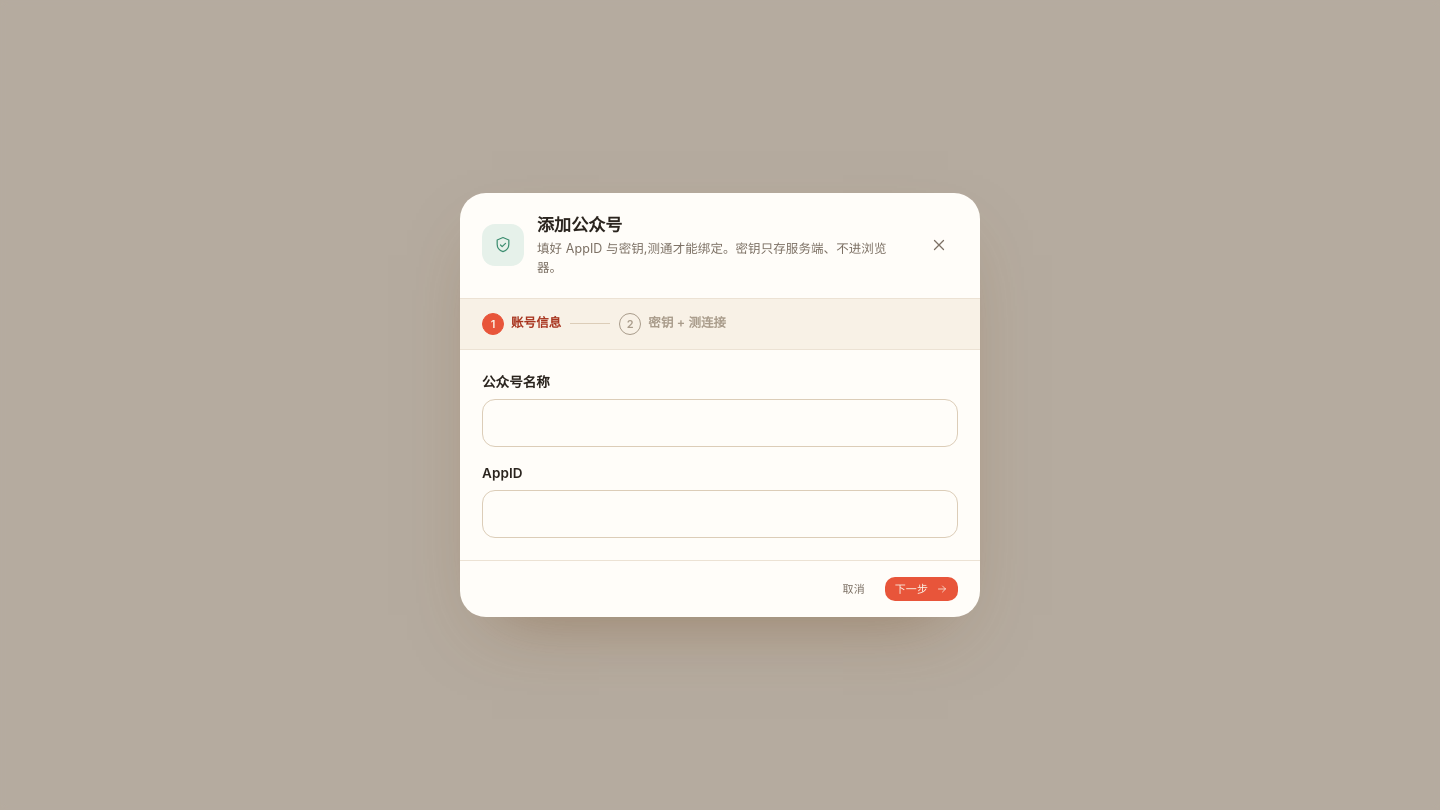
Test: WeChatBindWizard › 闸门:测连接成功后改 AppSecret 重置 tested,确认绑定按钮消失
Step 1. Type "号A" into the field named "名称" → (720, 423), box [497,400,943,446]
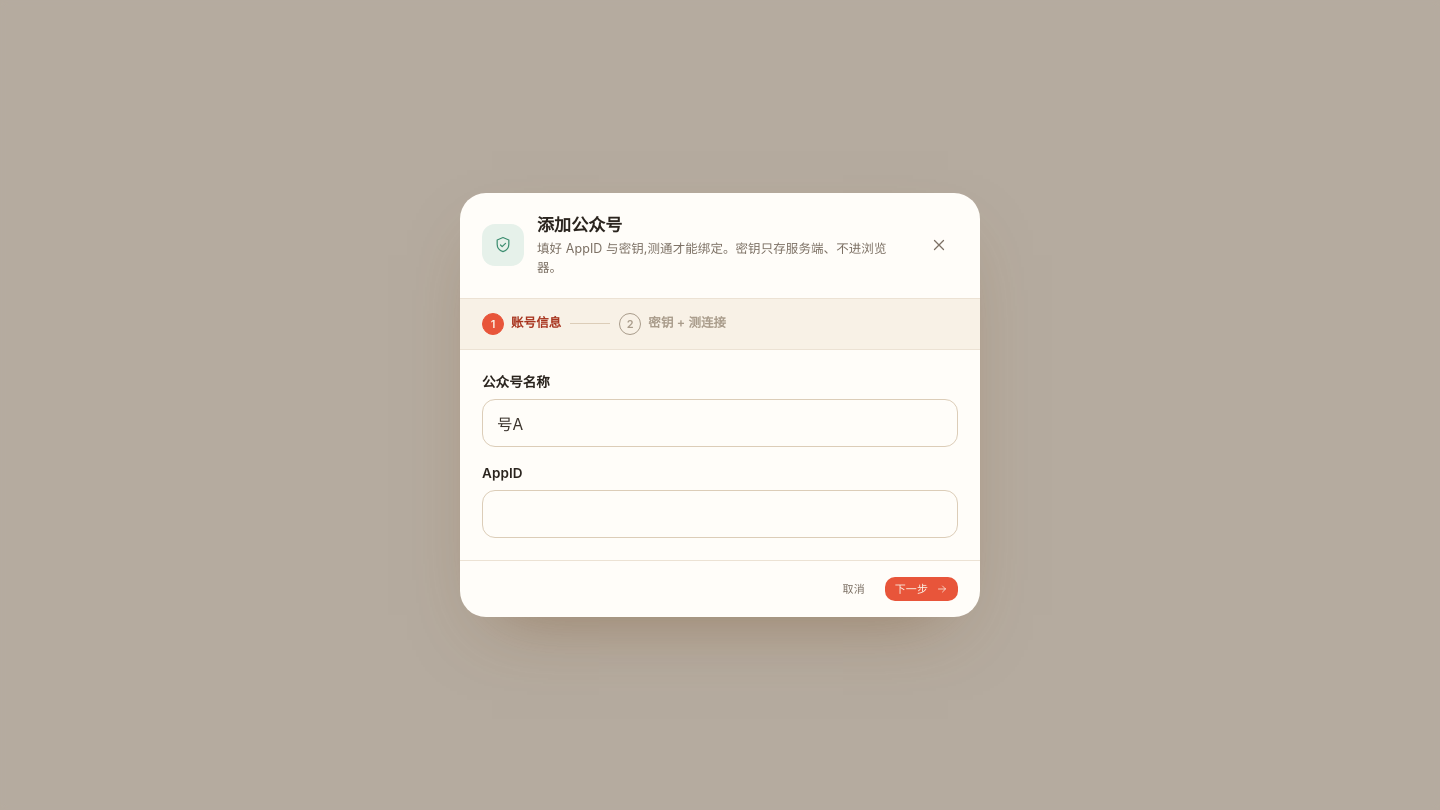
Step 2. Type "wxAppId" into the field named "AppID" → (720, 514), box [497,491,943,537]
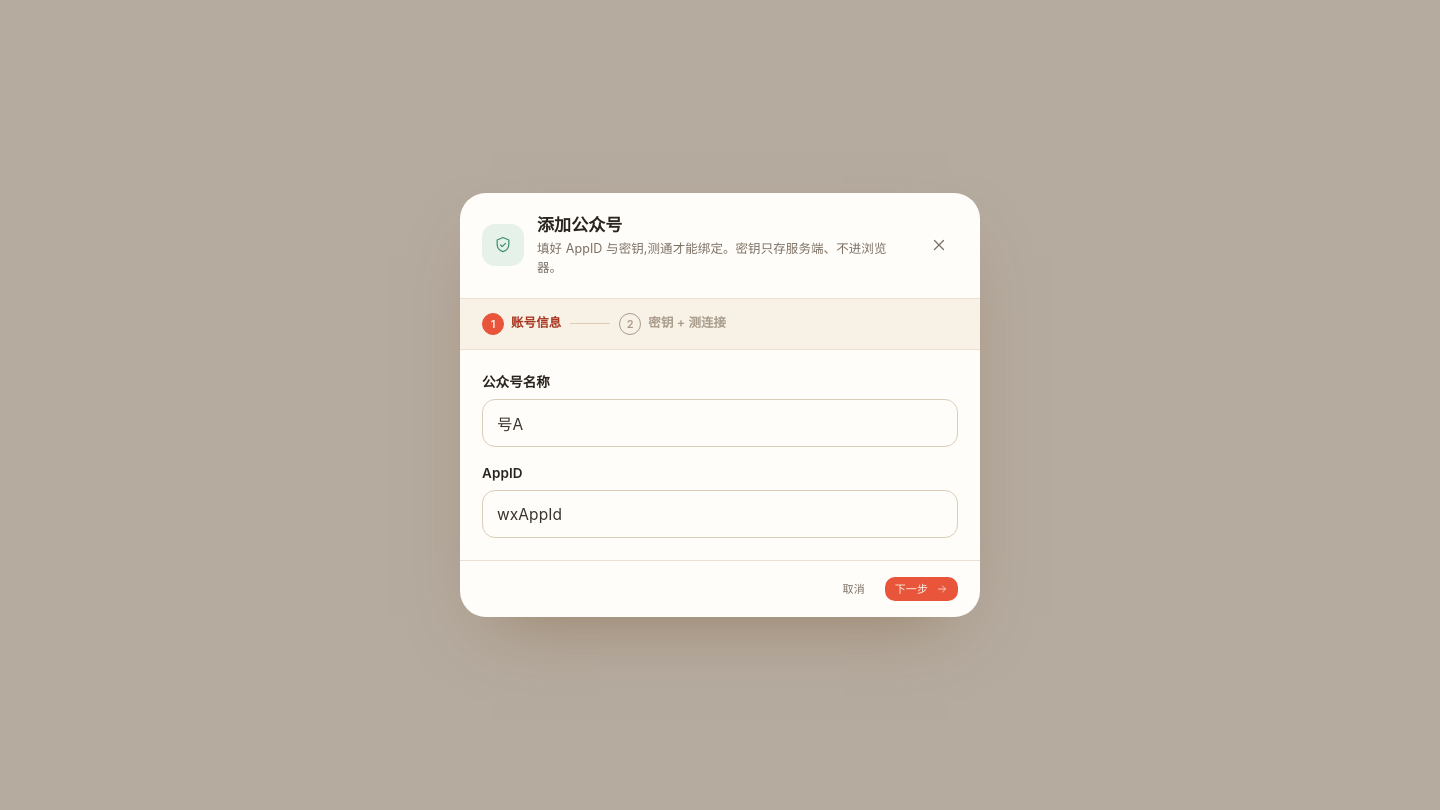
Step 3. Click the button "下一步" → (921, 589), box [885,577,958,601]
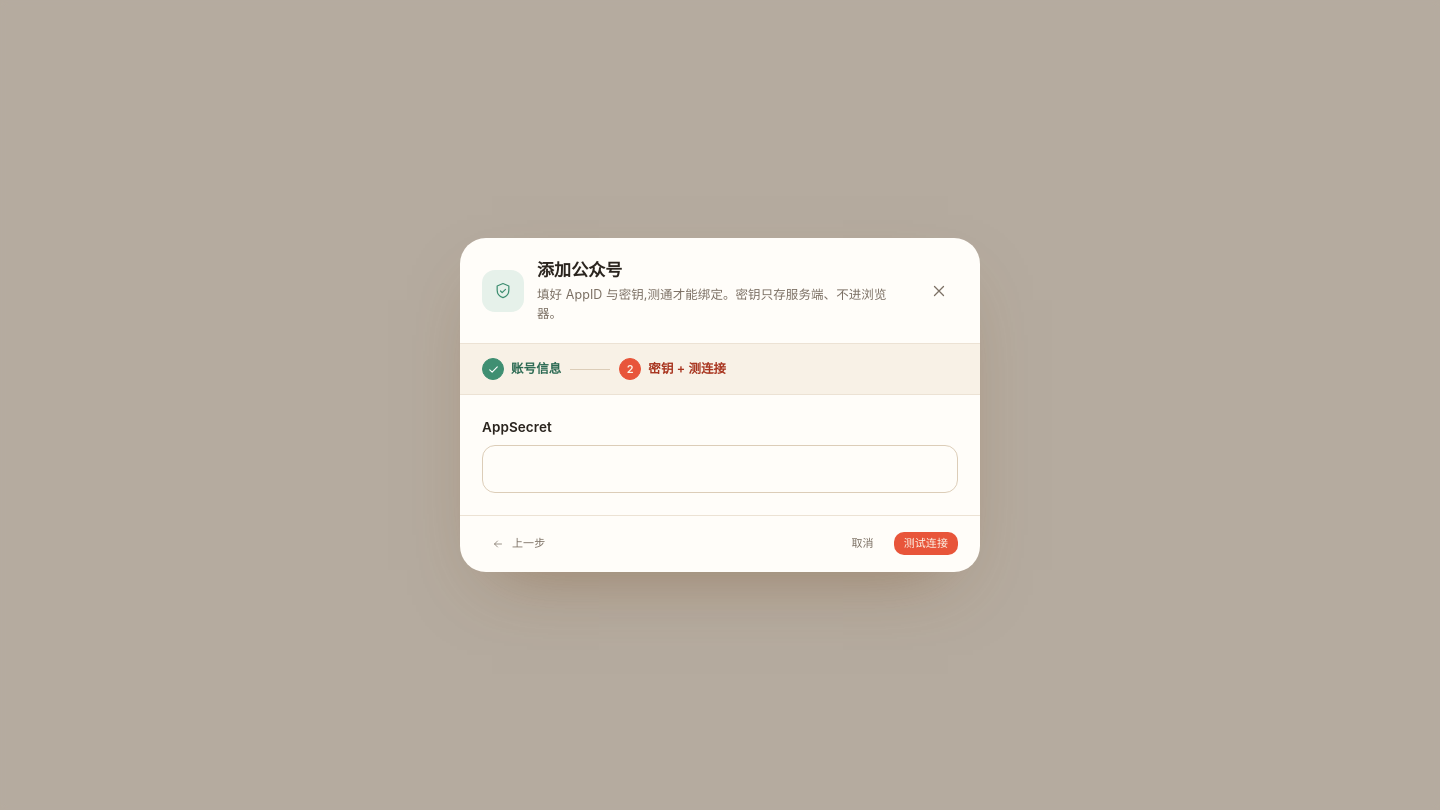
Step 4. Type "secretX" into the password field named "AppSecret" → (720, 469), box [497,446,943,492]
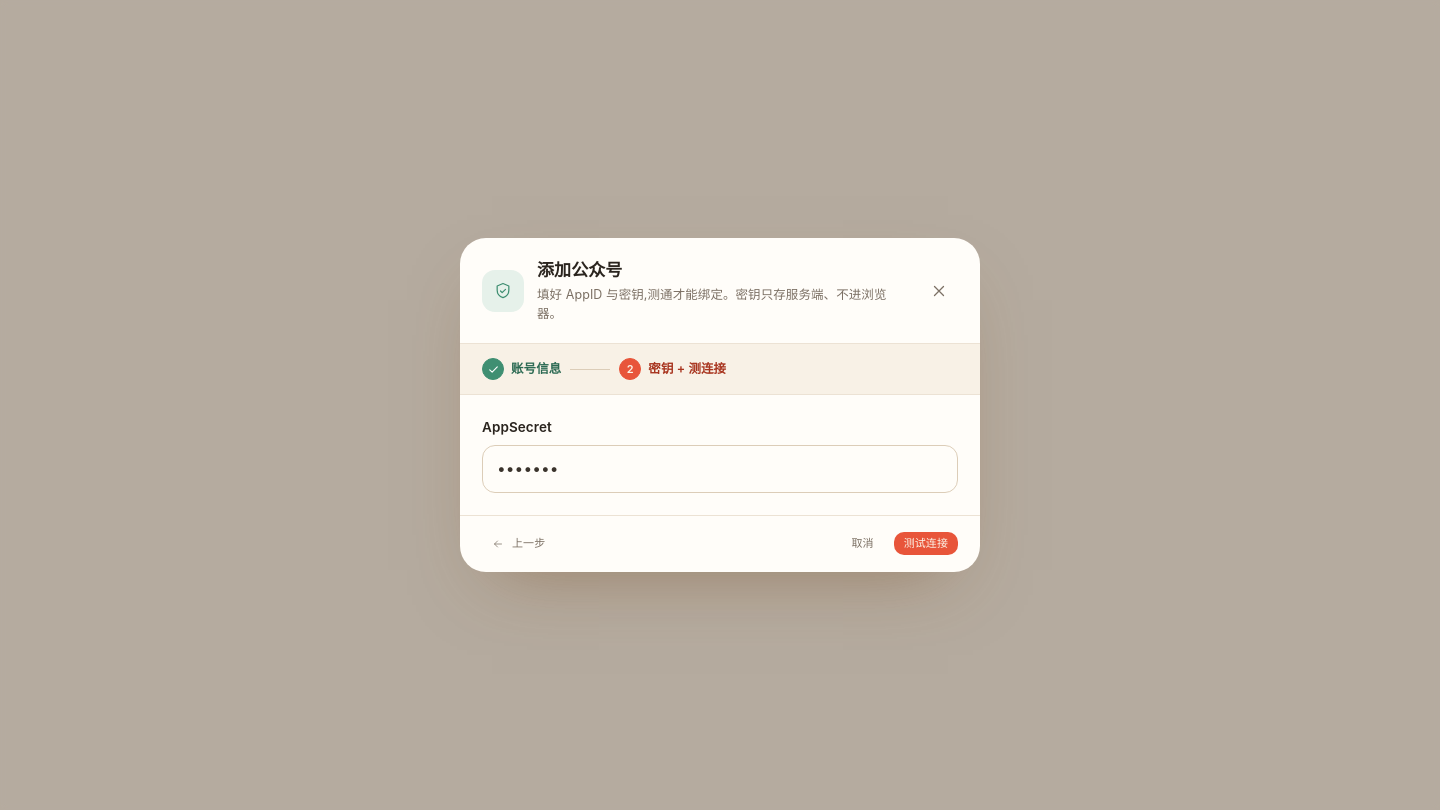
Step 5. Click the button "测试连接" → (926, 544), box [894,532,958,555]
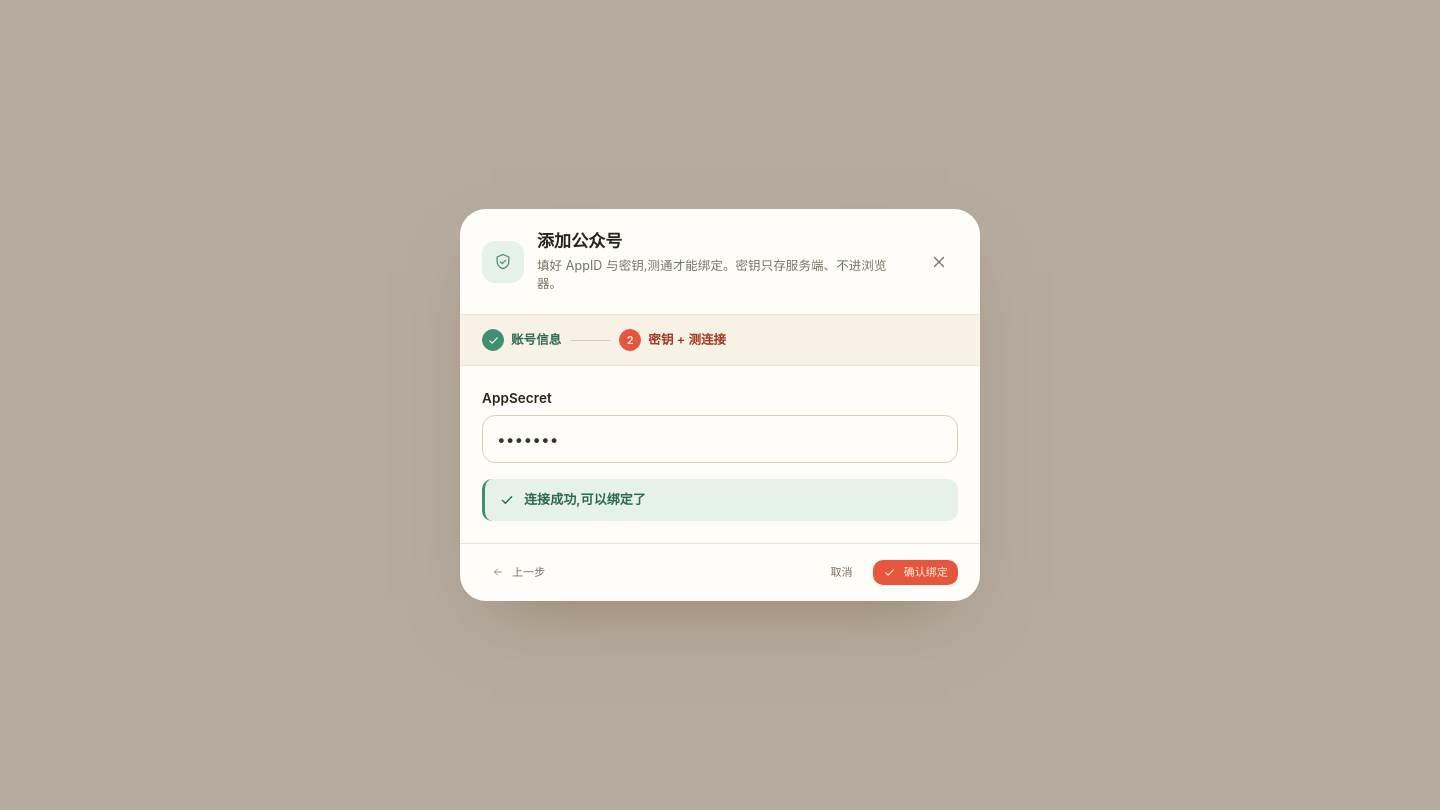
Result: the button "确认绑定" is shown at [873,560,958,585]
Step 6. Type "secretY" into the password field named "AppSecret" → (720, 439), box [497,416,943,462]
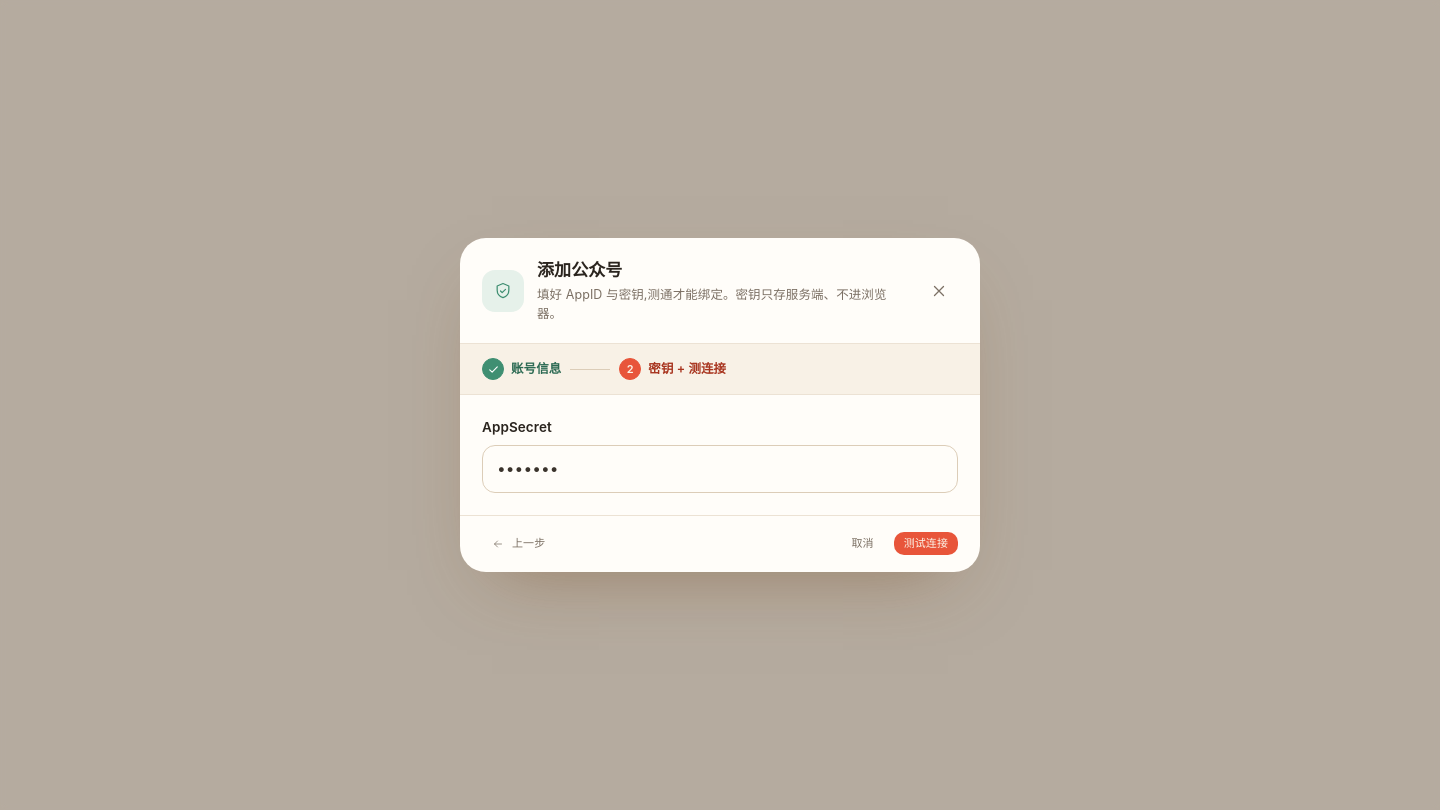
Result: the button "确认绑定" is gone
